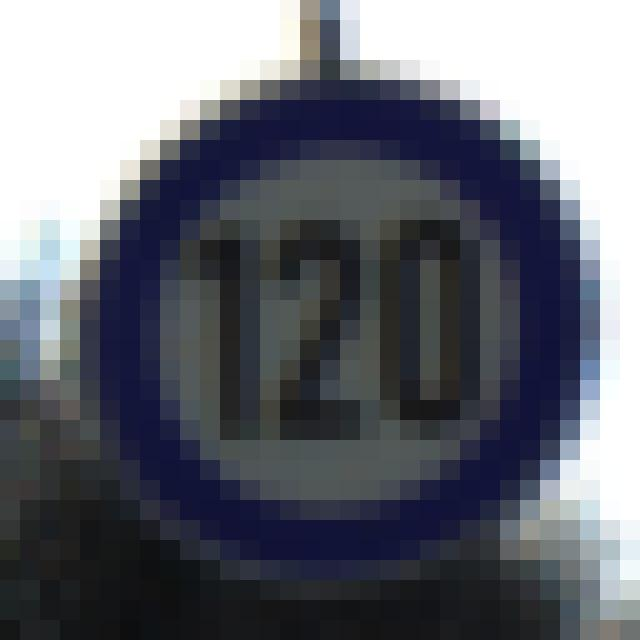SPEED LIMIT 120: (74, 84, 572, 546)
